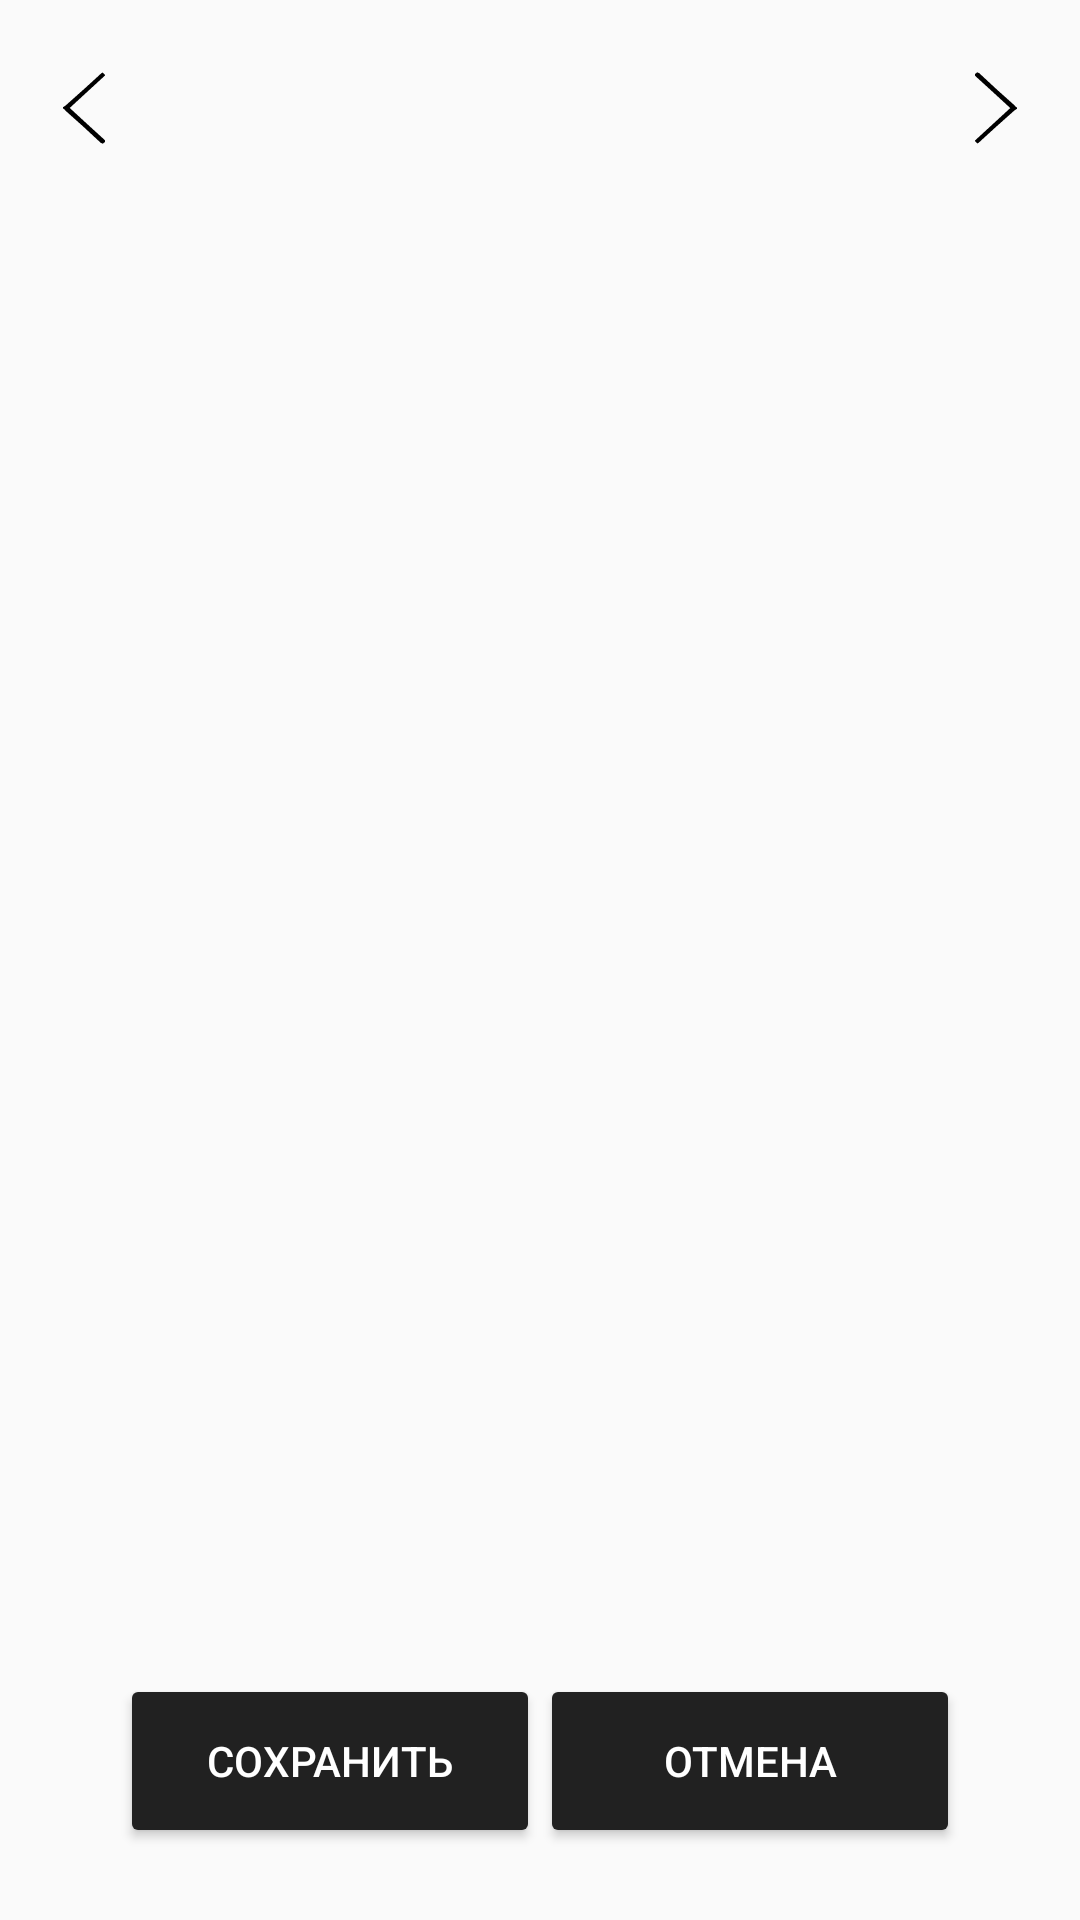

Icon bounding boxes for this 1080x1920 phone screenshot, format [x1, y1, x2, y2]:
back: [63, 72, 105, 144]
forward: [975, 72, 1017, 144]
